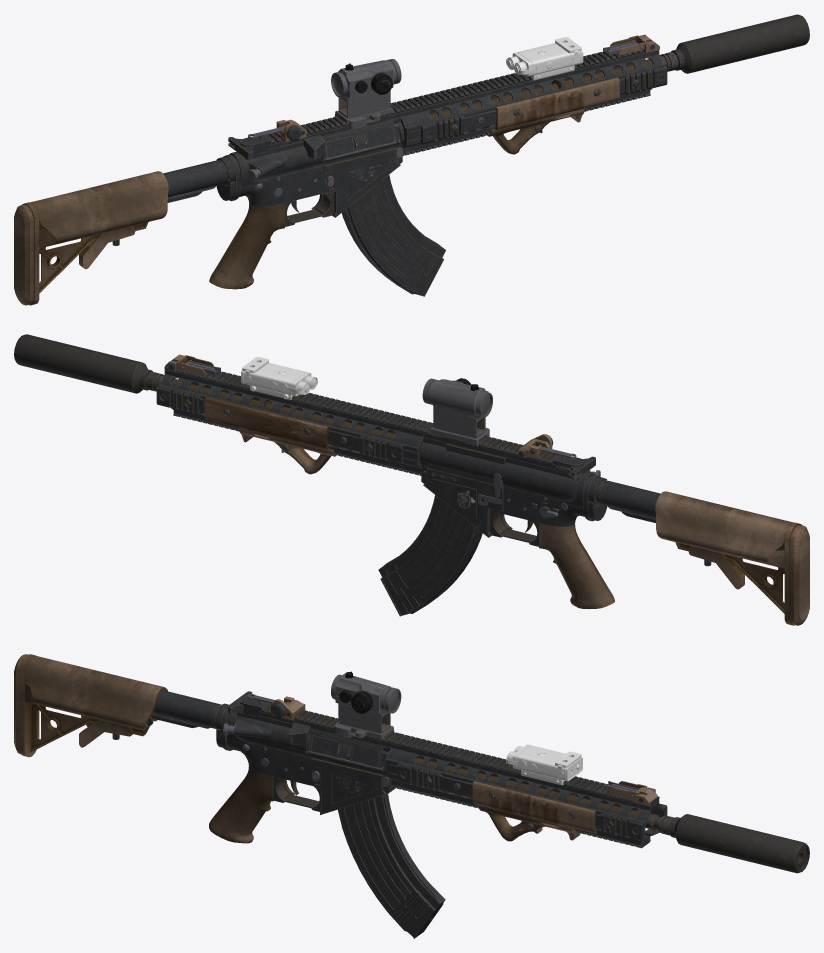
3 renders of one model, top to bottom at view 1: azimuth 30°, elevation 25°; view 2: azimuth 150°, elevation 25°; view 3: azimuth 330°, elevation 25°, orthographic.
Visible parts, largest first — view 1: stock.001, front.001, main.001, trigger.002, mags.003, Muzzle.002, Scope.001, Laser.001, Ironsight.001, Grip.001; view 2: stock.001, front.001, main.001, trigger.002, mags.003, Muzzle.002, Scope.001, Laser.001, Ironsight.001, Grip.001; view 3: front.001, stock.001, main.001, mags.003, trigger.002, Muzzle.002, Scope.001, Laser.001, Ironsight.001, Grip.001.
Part boxes in pixels (x1,y1,x2,y2): stock.001: [14, 154, 240, 305]; front.001: [392, 49, 667, 155]; main.001: [228, 103, 404, 206]; trigger.002: [209, 146, 402, 289]; mags.003: [342, 175, 445, 296]; Muzzle.002: [428, 14, 809, 120]; Scope.001: [331, 59, 401, 129]; Laser.001: [506, 37, 583, 80]; Ironsight.001: [248, 34, 659, 142]; Grip.001: [487, 108, 584, 154]; stock.001: [583, 474, 809, 625]; front.001: [156, 365, 431, 475]; main.001: [420, 423, 600, 526]; trigger.002: [420, 460, 614, 608]; mags.003: [378, 495, 482, 616]; Muzzle.002: [14, 334, 395, 439]; Scope.001: [422, 378, 492, 446]; Laser.001: [241, 357, 317, 399]; Ironsight.001: [166, 354, 576, 458]; Grip.001: [239, 428, 336, 474]; front.001: [385, 733, 667, 848]; stock.001: [14, 654, 232, 757]; main.001: [223, 691, 399, 786]; mags.003: [338, 793, 445, 938]; trigger.002: [209, 758, 395, 843]; Muzzle.002: [415, 757, 809, 873]; Scope.001: [331, 671, 401, 738]; Laser.001: [506, 744, 582, 785]; Ironsight.001: [247, 694, 658, 805]; Grip.001: [479, 805, 580, 841].
Size of the model in its own units: 1673 by 502 by 109.
